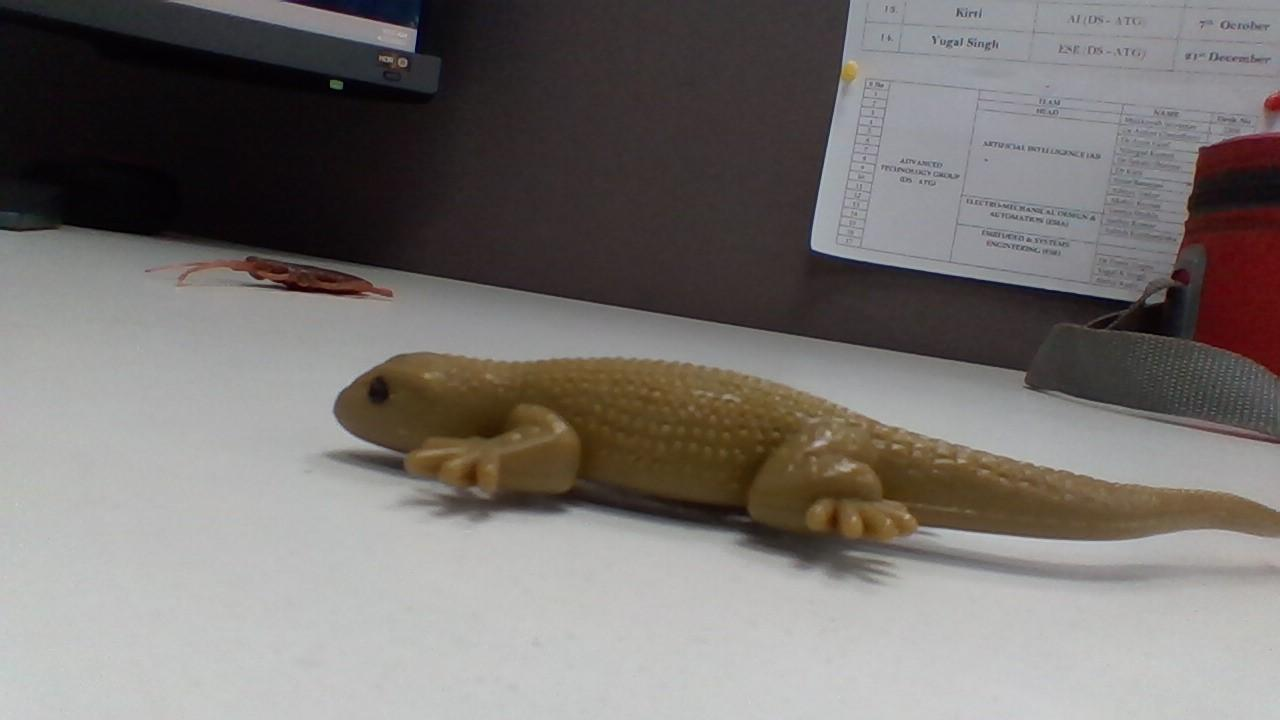cockroach: (140, 223, 393, 304)
lizard: (330, 347, 1280, 567)
